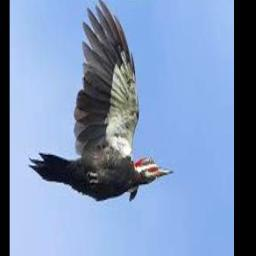Woodpecker: (28, 0, 174, 200)
